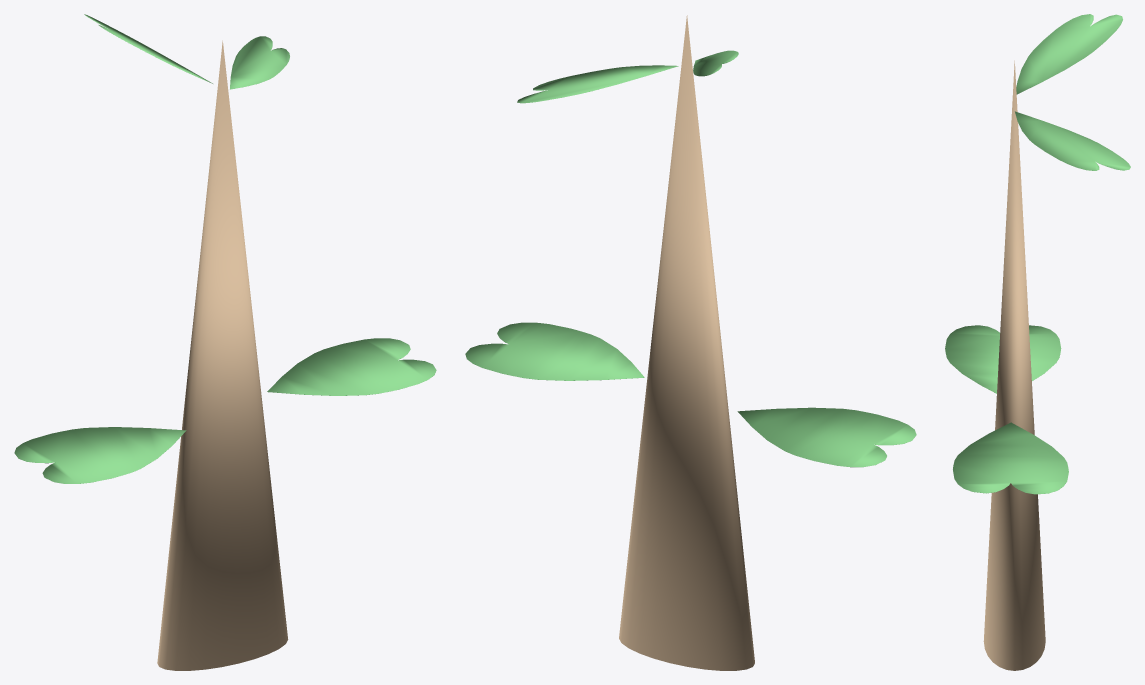
File: level4.glb
The picture shows the model from 3 angles, left to right: view 1: azimuth 30°, elevation 25°; view 2: azimuth 150°, elevation 25°; view 3: azimuth 270°, elevation 25°; orthographic projection. The views are drawn at different scales.
Visible parts, largest first — view 1: obj_0.003; view 2: obj_0.003; view 3: obj_0.003.
Part boxes in pixels (box(x1,y1,x2,y2)): obj_0.003: box(14, 14, 436, 670); obj_0.003: box(465, 15, 916, 670); obj_0.003: box(945, 14, 1130, 670).
Bounding box in the file's own units: 16.16 × 24.18 × 6.93.
